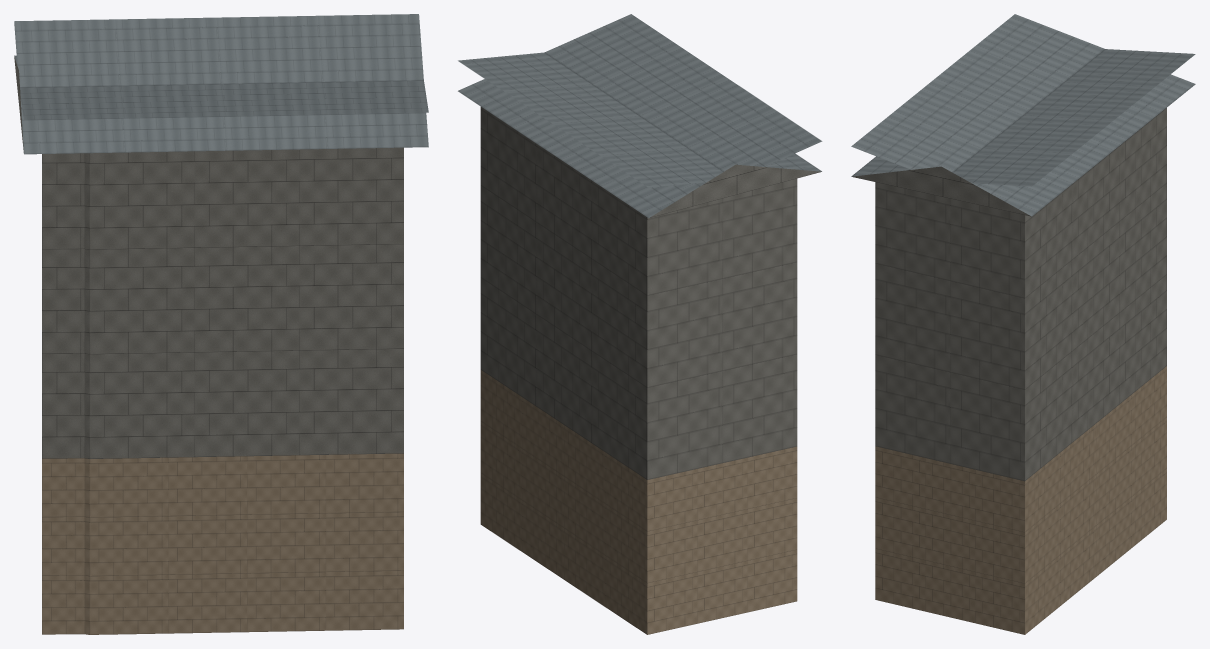
Rendered from bld_c32_-24_538.gltf.
3 views of the same model, side by side, from view 1: azimuth 30°, elevation 25°; view 2: azimuth 150°, elevation 25°; view 3: azimuth 270°, elevation 25° (orthographic). The views are drawn at different scales.
Visible parts, largest first — view 1: bld_c32_-24_538; view 2: bld_c32_-24_538; view 3: bld_c32_-24_538.
Part boxes in pixels (x1=…): bld_c32_-24_538: x1=14, y1=14, x2=428, y2=634; bld_c32_-24_538: x1=458, y1=14, x2=822, y2=634; bld_c32_-24_538: x1=851, y1=14, x2=1195, y2=634.
Size of the model in its own units: 12.28 by 15.2 by 10.38.
4 materials, 4 textured.
